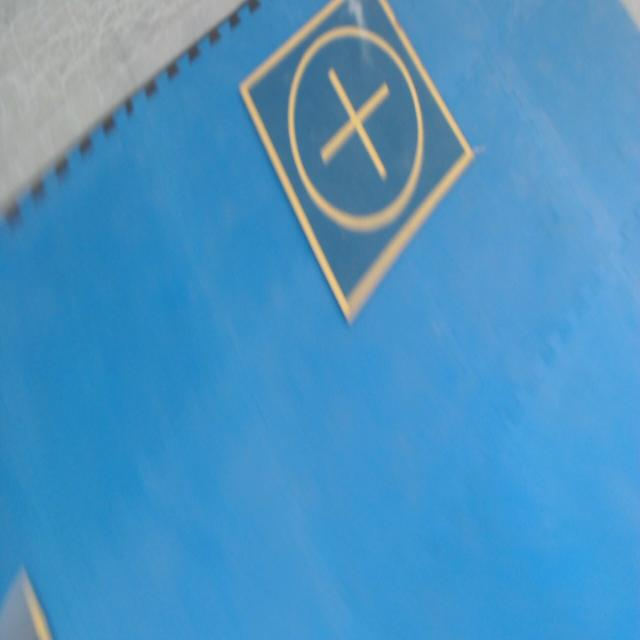base_pouso: (239, 0, 478, 328), (1, 562, 54, 639)
